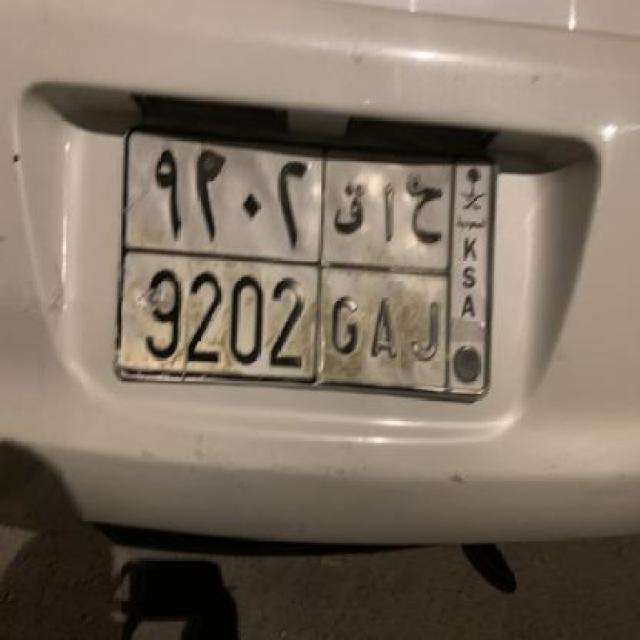license_plate: (110, 116, 502, 407)
